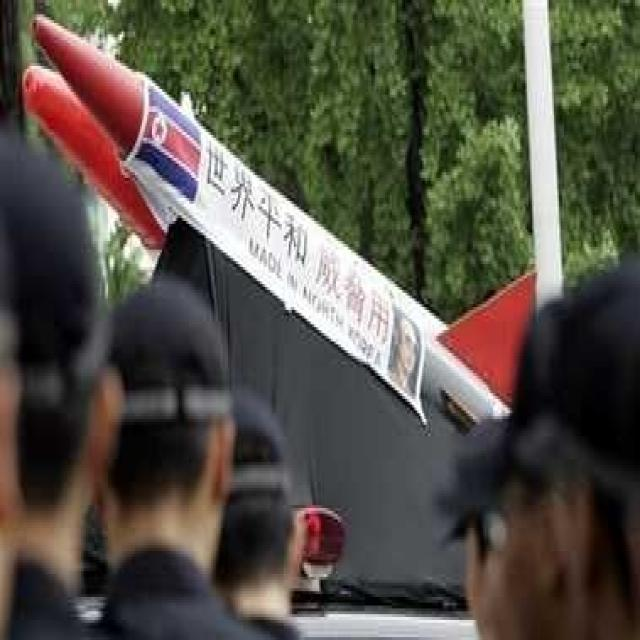missile: (30, 10, 539, 438)
